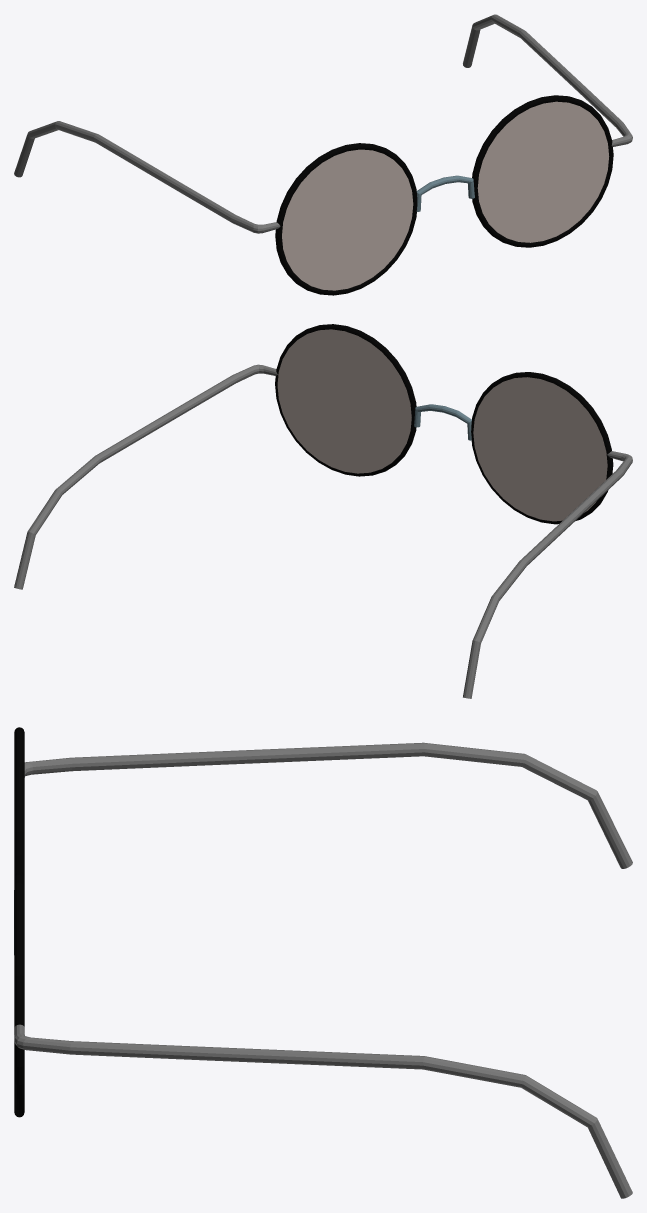
3 renders of one model, top to bottom at view 1: azimuth 30°, elevation 25°; view 2: azimuth 150°, elevation 25°; view 3: azimuth 270°, elevation 25°, orthographic. The views are drawn at different scales.
Visible parts, largest first — view 1: glassesRound; view 2: glassesRound; view 3: glassesRound.
Part boxes in pixels (x1,y1,x2,y2): glassesRound: (14, 14, 632, 295); glassesRound: (14, 324, 632, 698); glassesRound: (14, 727, 632, 1198).
Size of the model in its own units: 0.4663 by 0.1446 by 0.3633.
Materials: 3 (2 with a texture image).
